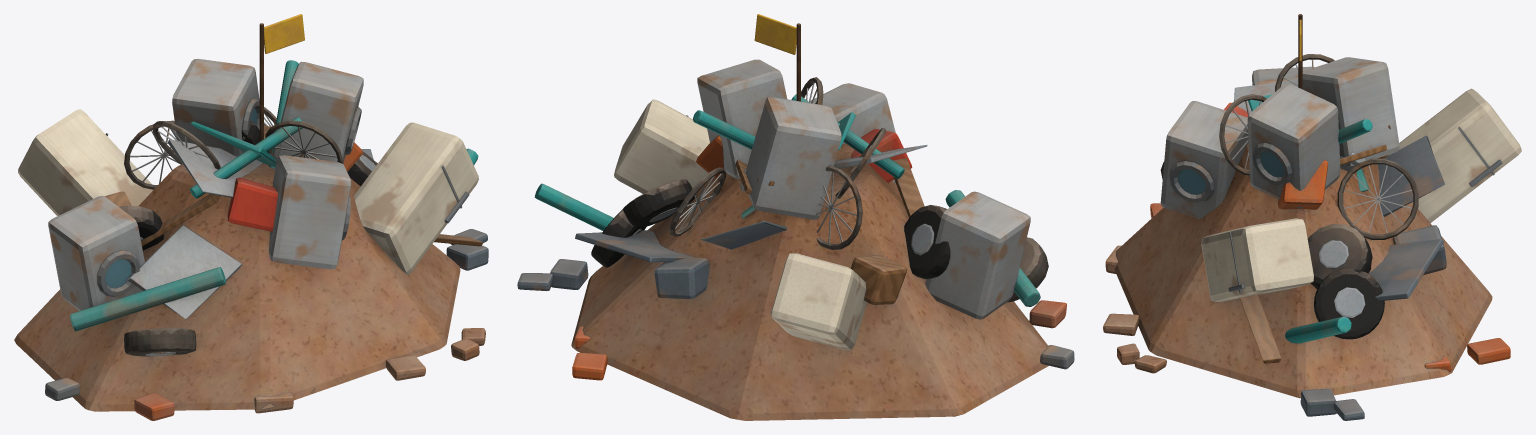
The model's file is scrap_heap_large.glb.
The picture shows the model from 3 angles, left to right: view 1: azimuth 30°, elevation 25°; view 2: azimuth 150°, elevation 25°; view 3: azimuth 270°, elevation 25°; orthographic projection. The views are drawn at different scales.
Visible parts, largest first — view 1: ScrapHeap_Mesh, Pieces_Mesh, Fridge11_Mesh, Washer4_Mesh, Fridge3_Mesh, Washer20_Mesh, Washer28_Mesh, Washer12_Mesh, Bike5_Mesh, Bike29_Mesh, Bike21_Mesh; view 2: ScrapHeap_Mesh, Pieces_Mesh, Washer28_Mesh, Washer4_Mesh, Fridge3_Mesh, Fridge11_Mesh, Washer12_Mesh, Washer20_Mesh, Bike29_Mesh, Bike13_Mesh, Bike21_Mesh; view 3: ScrapHeap_Mesh, Pieces_Mesh, Washer12_Mesh, Fridge3_Mesh, Fridge11_Mesh, Washer20_Mesh, Washer28_Mesh, Bike13_Mesh, Bike5_Mesh, Washer4_Mesh, Bike21_Mesh.
Part boxes in pixels (<box>): ScrapHeap_Mesh: <box>14,163,460,411</box>; Pieces_Mesh: <box>45,14,488,420</box>; Fridge11_Mesh: <box>354,122,478,274</box>; Washer4_Mesh: <box>48,196,144,310</box>; Fridge3_Mesh: <box>18,109,152,216</box>; Washer20_Mesh: <box>269,155,351,269</box>; Washer28_Mesh: <box>172,58,259,156</box>; Washer12_Mesh: <box>273,61,363,163</box>; Bike5_Mesh: <box>265,120,342,163</box>; Bike29_Mesh: <box>124,120,179,189</box>; Bike21_Mesh: <box>153,121,220,169</box>; ScrapHeap_Mesh: <box>571,143,1048,420</box>; Pieces_Mesh: <box>517,14,1074,380</box>; Washer28_Mesh: <box>746,97,841,219</box>; Washer4_Mesh: <box>925,191,1030,319</box>; Fridge3_Mesh: <box>770,253,866,350</box>; Fridge11_Mesh: <box>614,99,712,193</box>; Washer12_Mesh: <box>697,59,787,179</box>; Washer20_Mesh: <box>810,83,895,183</box>; Bike29_Mesh: <box>816,165,862,249</box>; Bike13_Mesh: <box>669,167,725,236</box>; Bike21_Mesh: <box>835,128,886,198</box>; ScrapHeap_Mesh: <box>1115,143,1492,398</box>; Pieces_Mesh: <box>1103,14,1510,420</box>; Washer12_Mesh: <box>1247,83,1340,208</box>; Fridge3_Mesh: <box>1389,88,1521,222</box>; Fridge11_Mesh: <box>1201,218,1313,301</box>; Washer20_Mesh: <box>1160,101,1248,219</box>; Washer28_Mesh: <box>1302,57,1399,166</box>; Bike13_Mesh: <box>1337,158,1418,239</box>; Bike5_Mesh: <box>1219,94,1266,175</box>; Washer4_Mesh: <box>1252,66,1314,85</box>; Bike21_Mesh: <box>1275,54,1334,91</box>.
Bounding box in the file's own units: 4.91 × 2.96 × 3.72.
12 materials, 12 textured.
